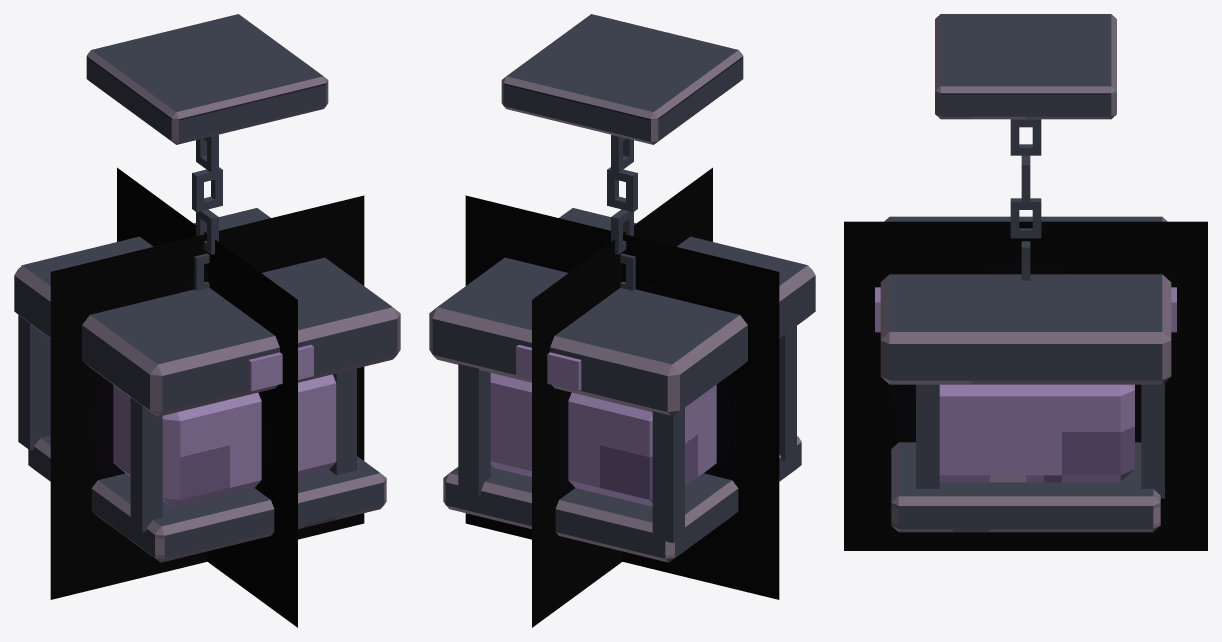
Rendered from placed_uv_pendant_lit.obj.
3 views of the same model, side by side, from view 1: azimuth 30°, elevation 25°; view 2: azimuth 150°, elevation 25°; view 3: azimuth 270°, elevation 25° (orthographic).
Parts seen in each view (by area): view 1: model; view 2: model; view 3: model.
Boxes of the visible parts, x1,y1,x2,y2 form: model: (14, 14, 400, 627); model: (429, 14, 815, 627); model: (844, 14, 1207, 550).
Bounding box in the file's own units: 0.625 × 0.95 × 0.625.
